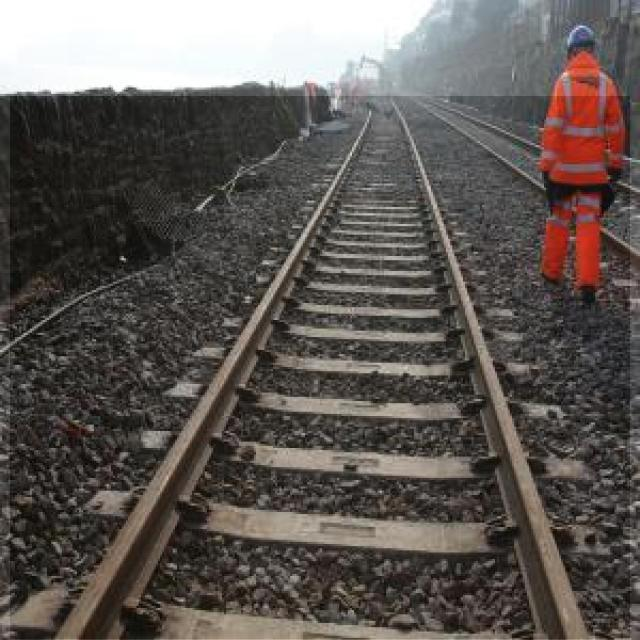rail: (11, 98, 631, 640)
